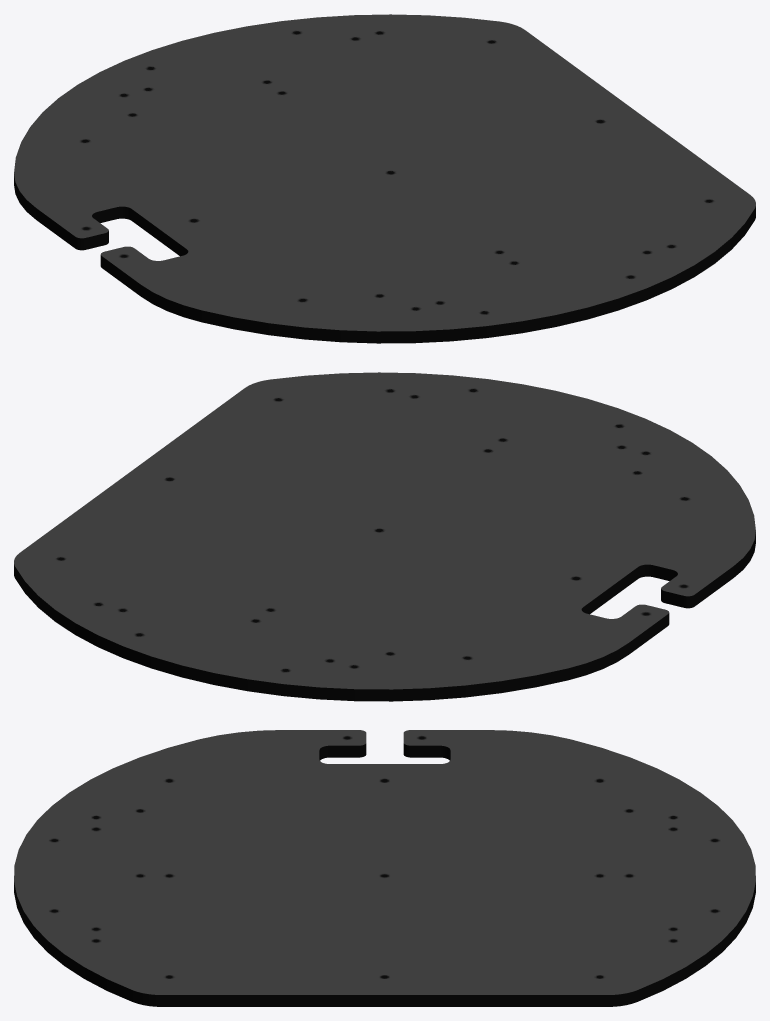
The model's file is plate_middle.dae.
3 renders of one model, top to bottom at view 1: azimuth 30°, elevation 25°; view 2: azimuth 150°, elevation 25°; view 3: azimuth 270°, elevation 25°, orthographic.
Parts seen in each view (by area): view 1: Jupiterobot Circles Middle; view 2: Jupiterobot Circles Middle; view 3: Jupiterobot Circles Middle.
Boxes of the visible parts, bbox=[...] form: Jupiterobot Circles Middle: bbox=[14, 14, 755, 343]; Jupiterobot Circles Middle: bbox=[14, 372, 755, 701]; Jupiterobot Circles Middle: bbox=[14, 730, 755, 1006].
Size of the model in its own units: 287 by 340 by 6.
1 material, 1 textured.
